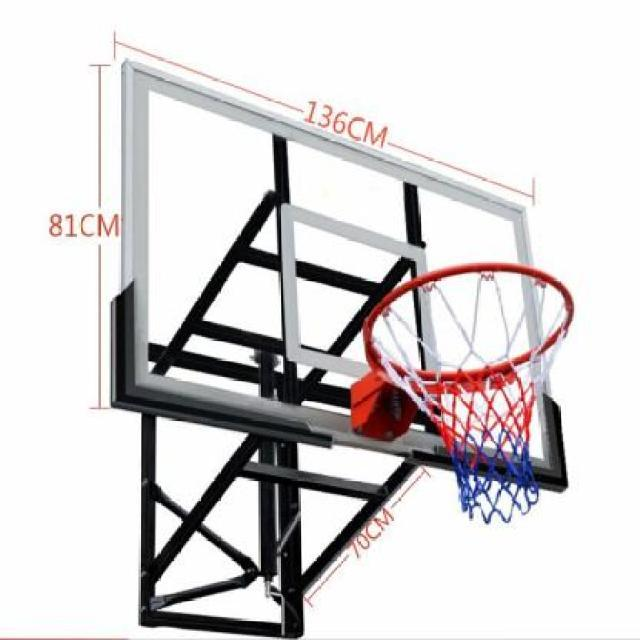rim: (362, 262, 576, 520)
